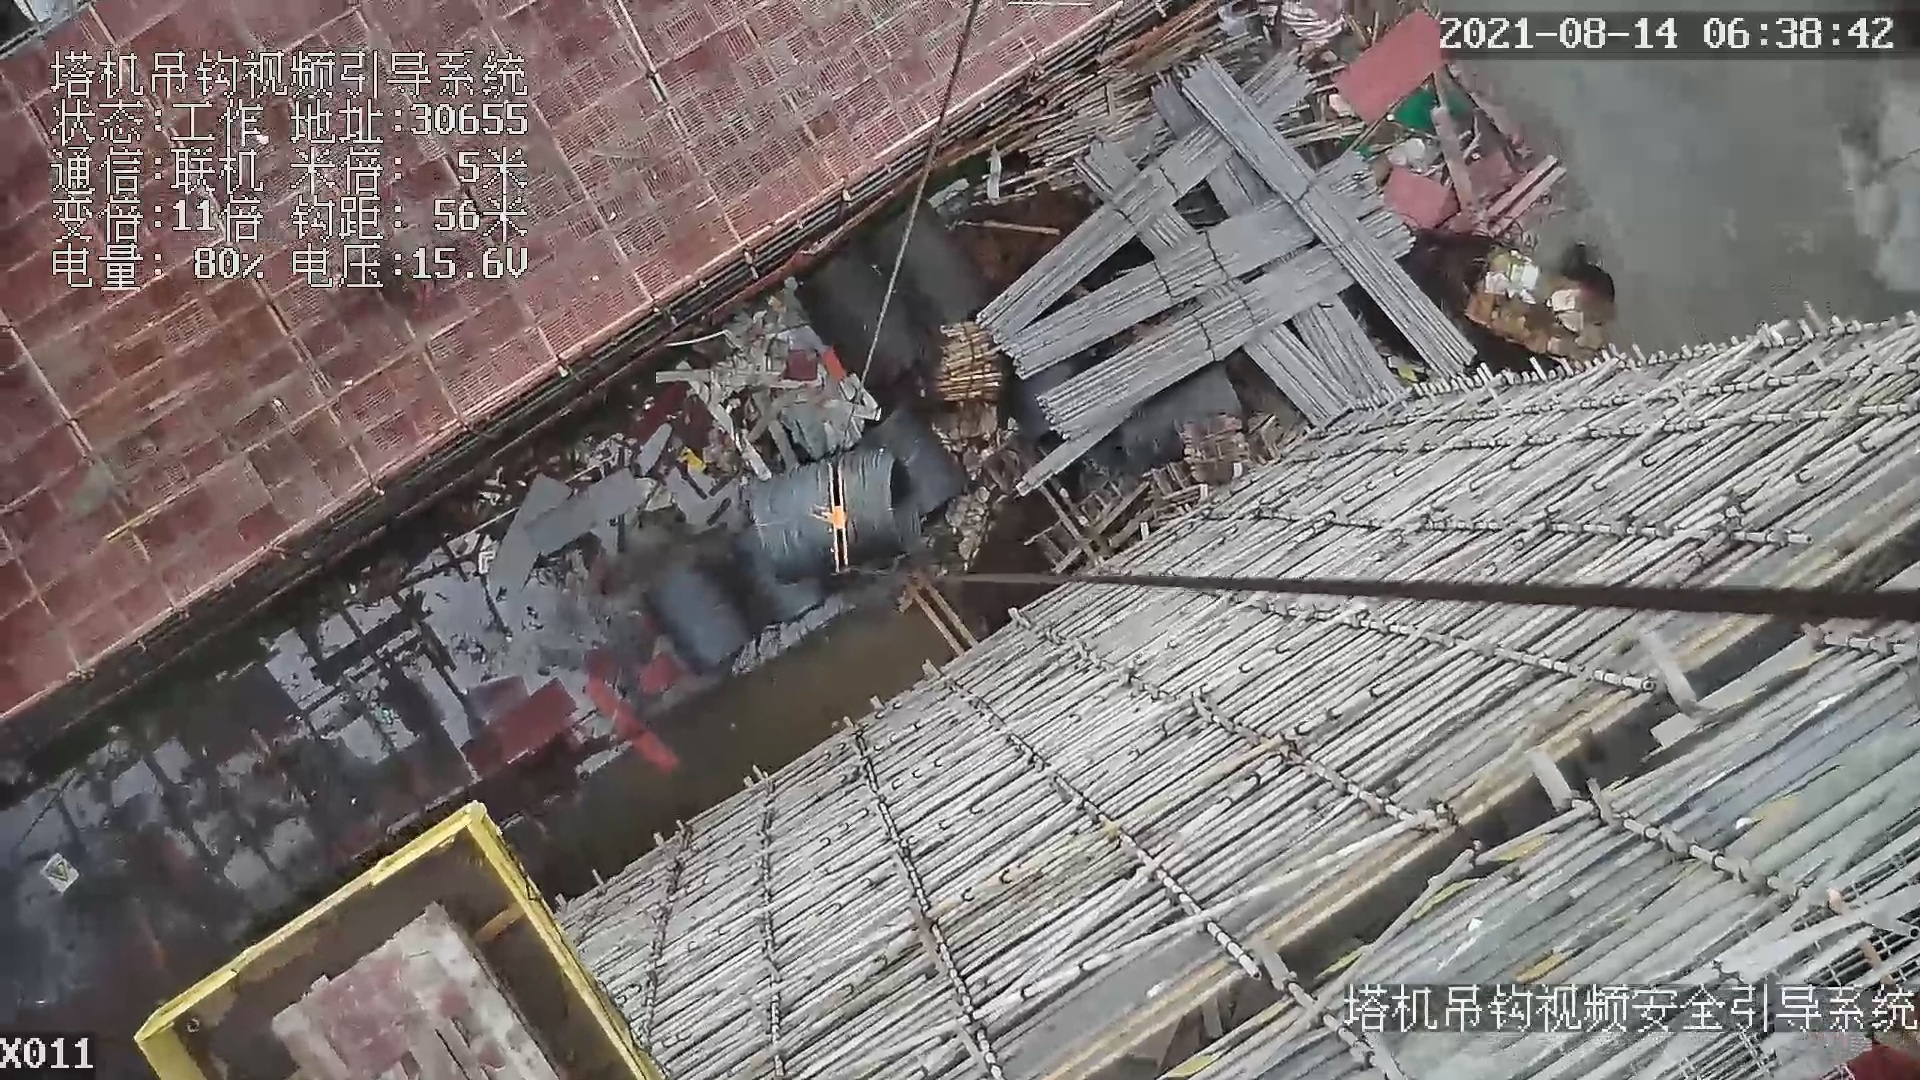hook: (800, 462, 858, 572)
